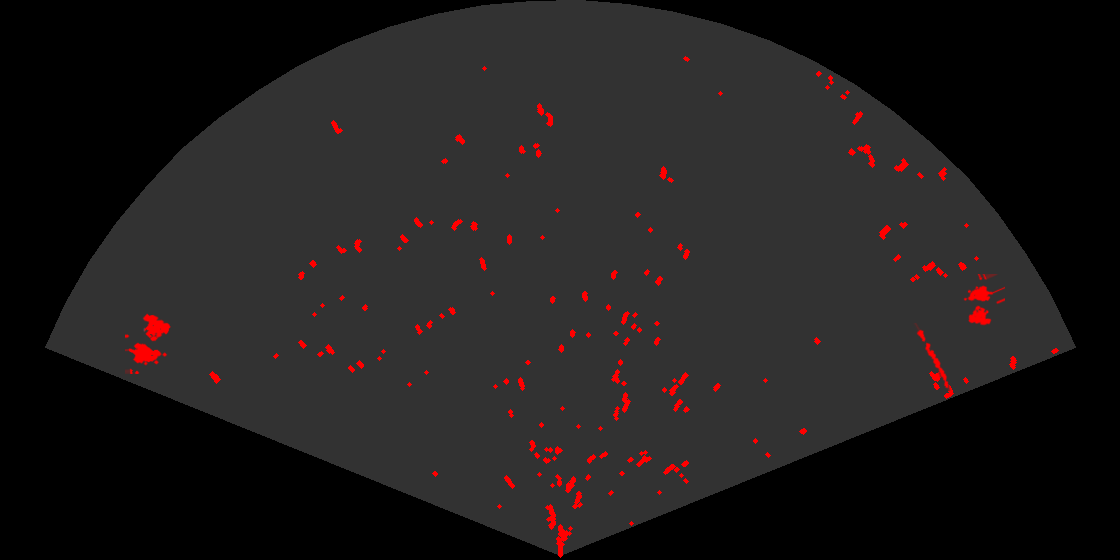cage: (125, 312, 172, 374), (962, 274, 1005, 327)
chain: (912, 323, 951, 391)
